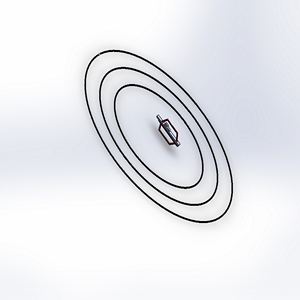circle: (67, 43, 242, 228)
submarine: (147, 111, 186, 153)
